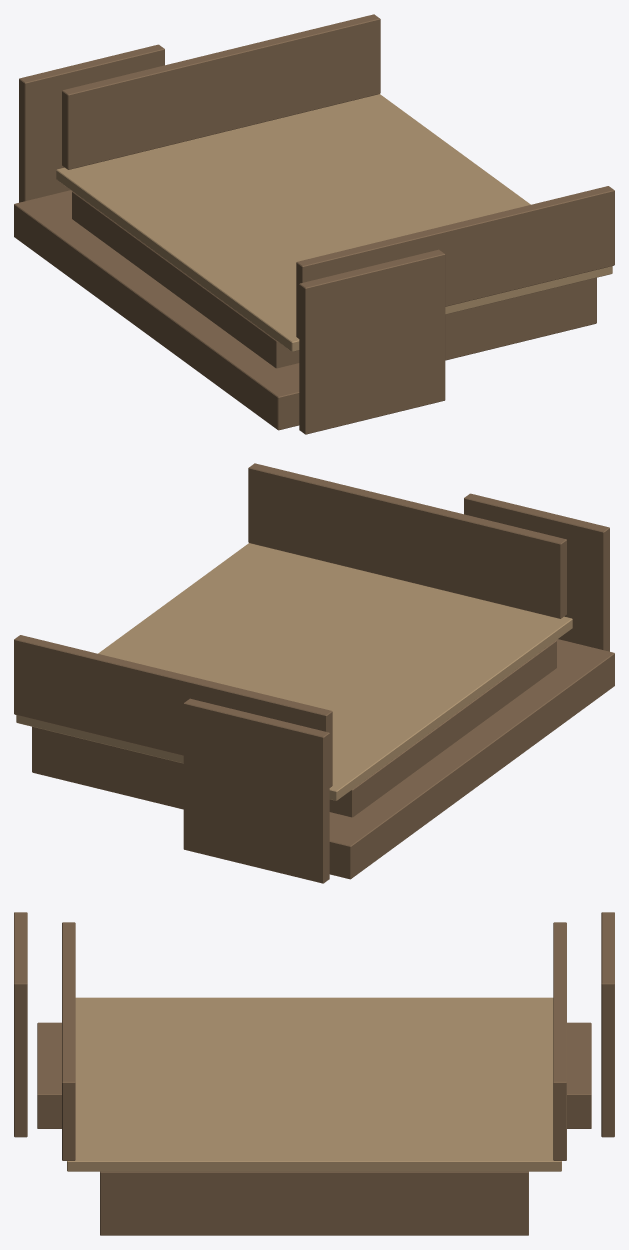
File: bridge_timber_end.glb
The picture shows the model from 3 angles, top to bottom: view 1: azimuth 30°, elevation 25°; view 2: azimuth 150°, elevation 25°; view 3: azimuth 270°, elevation 25°; orthographic projection. The views are drawn at different scales.
Parts seen in each view (by area): view 1: bridge_timber_end; view 2: bridge_timber_end; view 3: bridge_timber_end.
Part boxes in pixels (left/top/right/bottom): bridge_timber_end: left=14, top=14, right=614, bottom=434; bridge_timber_end: left=14, top=463, right=614, bottom=883; bridge_timber_end: left=14, top=912, right=614, bottom=1235.
Bounding box in the file's own units: 4.35 × 1.75 × 6.19.
